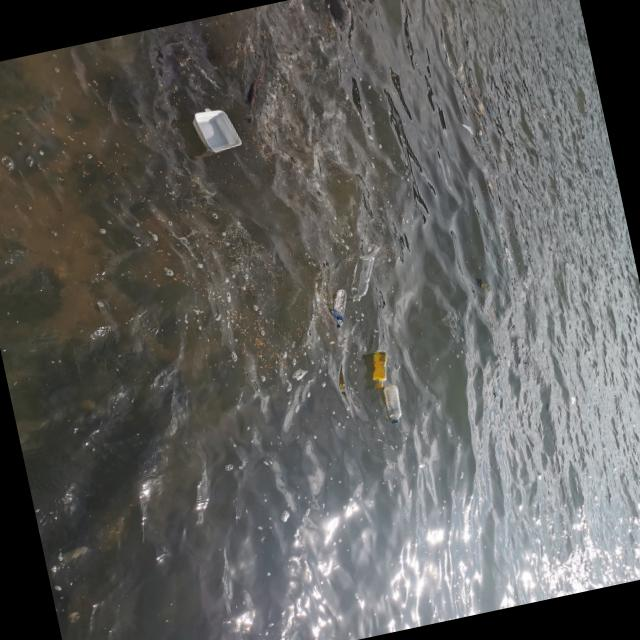foam: (187, 102, 242, 159)
plastic: (342, 255, 380, 302), (378, 382, 406, 428), (364, 348, 391, 388), (327, 288, 352, 327)
